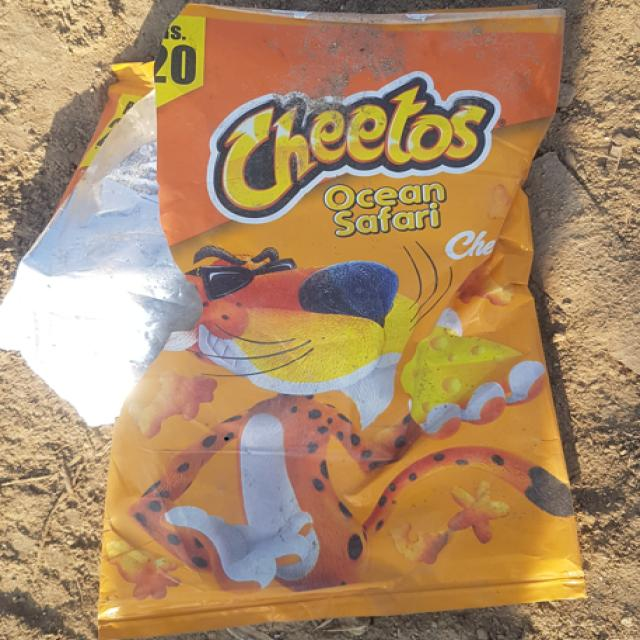electronic: (84, 5, 595, 622)
